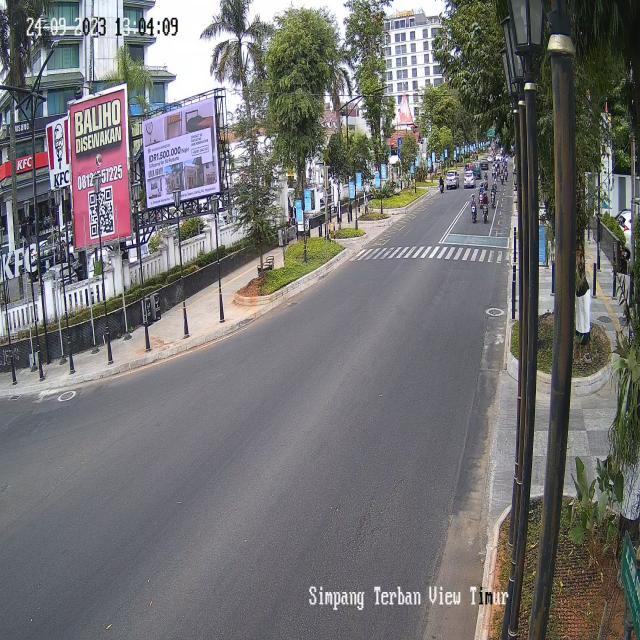car: (446, 170, 459, 190), (464, 170, 476, 188)
motorcycle: (470, 193, 478, 223), (482, 190, 488, 223), (478, 182, 484, 210), (490, 182, 496, 206), (484, 171, 489, 191), (493, 172, 498, 191), (439, 174, 444, 192), (501, 168, 504, 186)
